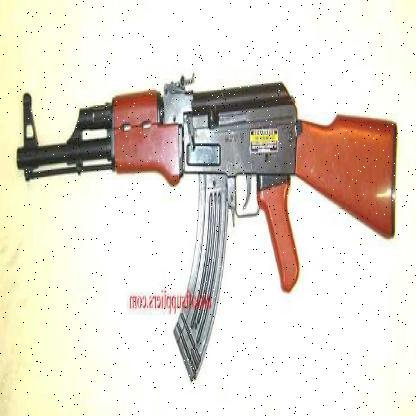rifle: (5, 58, 408, 364)
